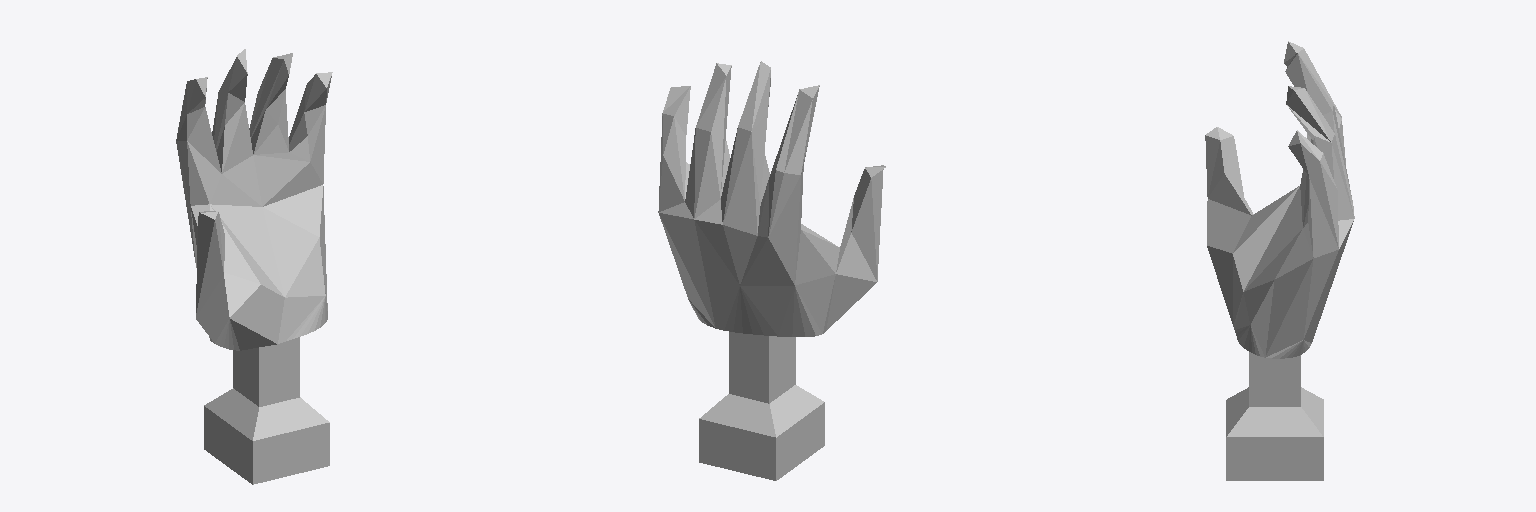
File: handsculpture.obj
3 views of the same model, side by side, from view 1: azimuth 30°, elevation 25°; view 2: azimuth 150°, elevation 25°; view 3: azimuth 270°, elevation 25° (orthographic).
Visible parts, largest first — view 1: Line03.1, Cube; view 2: Line03.1, Cube; view 3: Line03.1, Cube.
Boxes of the visible parts, <box> form: Line03.1: <box>176,49,332,350</box>; Cube: <box>204,337,329,484</box>; Line03.1: <box>658,61,885,336</box>; Cube: <box>699,332,824,480</box>; Line03.1: <box>1205,41,1354,358</box>; Cube: <box>1226,352,1323,480</box>.
Bounding box in the file's own units: 165 × 366 × 123.